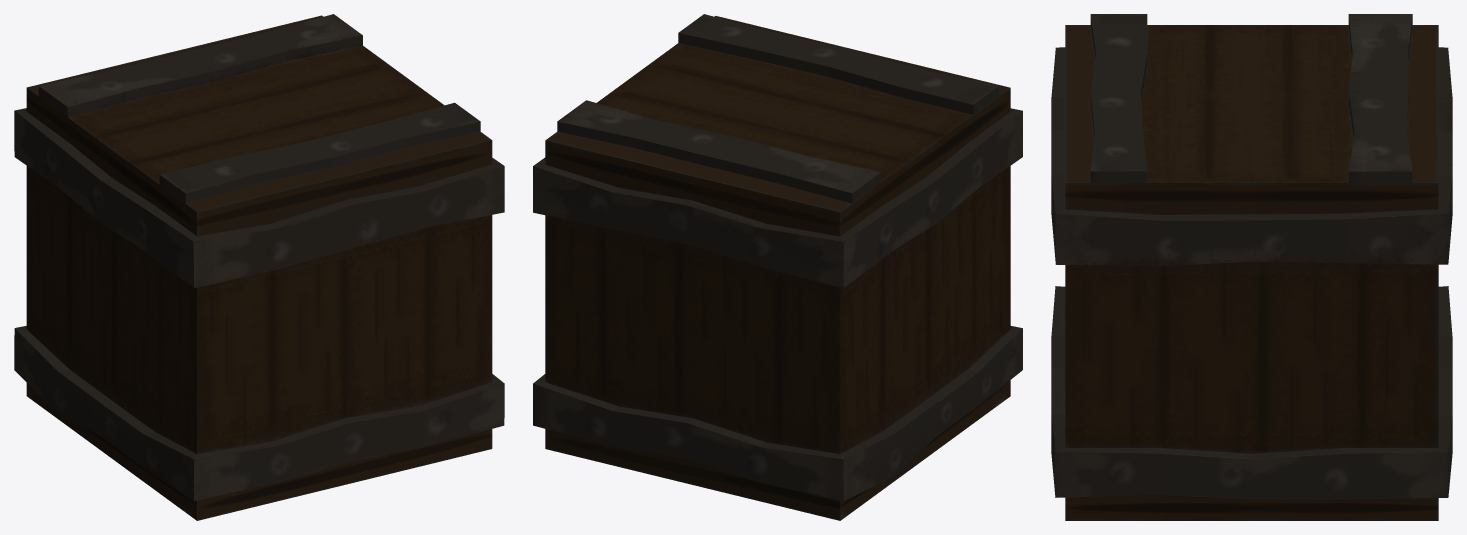
The model's file is BoxWithSteel.fbx.
The picture shows the model from 3 angles, left to right: view 1: azimuth 30°, elevation 25°; view 2: azimuth 150°, elevation 25°; view 3: azimuth 270°, elevation 25°; orthographic projection. The views are drawn at different scales.
Parts seen in each view (by area): view 1: Cube; view 2: Cube; view 3: Cube.
Boxes of the visible parts, box(x1,y1,x2,y2) form: Cube: box(14, 14, 504, 520); Cube: box(533, 14, 1022, 520); Cube: box(1051, 14, 1452, 520).
Bounding box in the file's own units: 215 × 207 × 215.
Materials: 1 (1 with a texture image).
